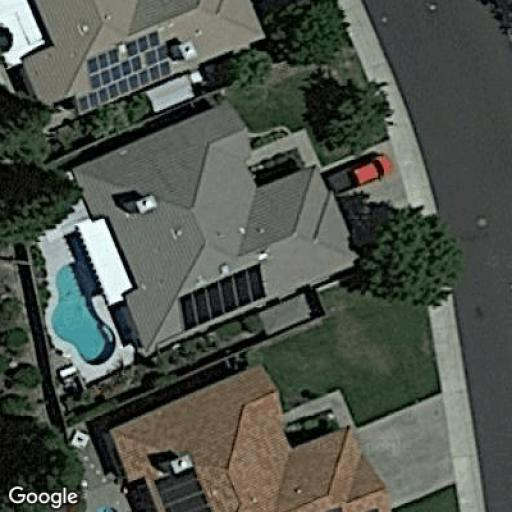solar-panel: (82, 30, 172, 110), (177, 262, 268, 329), (155, 466, 210, 512)
